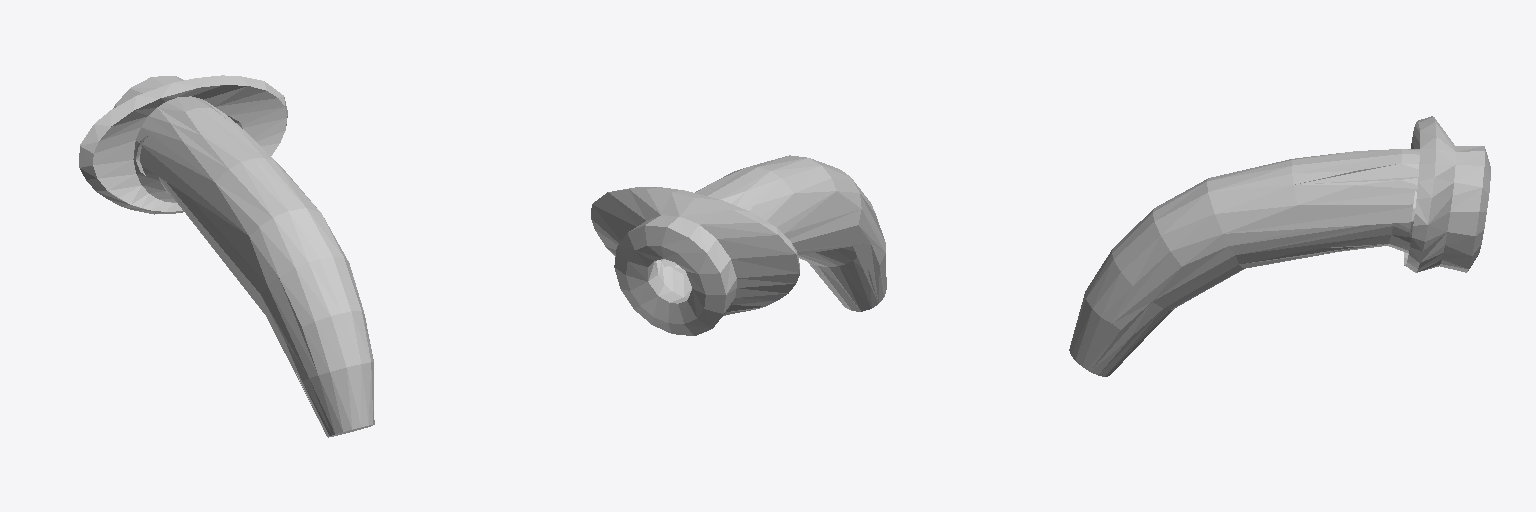
Rendered from mouth2.obj.
3 renders of one model, left to right at view 1: azimuth 30°, elevation 25°; view 2: azimuth 150°, elevation 25°; view 3: azimuth 270°, elevation 25°, orthographic.
Visible parts, largest first — view 1: cylinder234_default; view 2: cylinder234_default; view 3: cylinder234_default.
Boxes of the visible parts, <box> form: cylinder234_default: <box>79,75,374,437</box>; cylinder234_default: <box>591,155,886,335</box>; cylinder234_default: <box>1069,116,1490,376</box>.
Bounding box in the file's own units: 5.91 × 6.33 × 10.33.